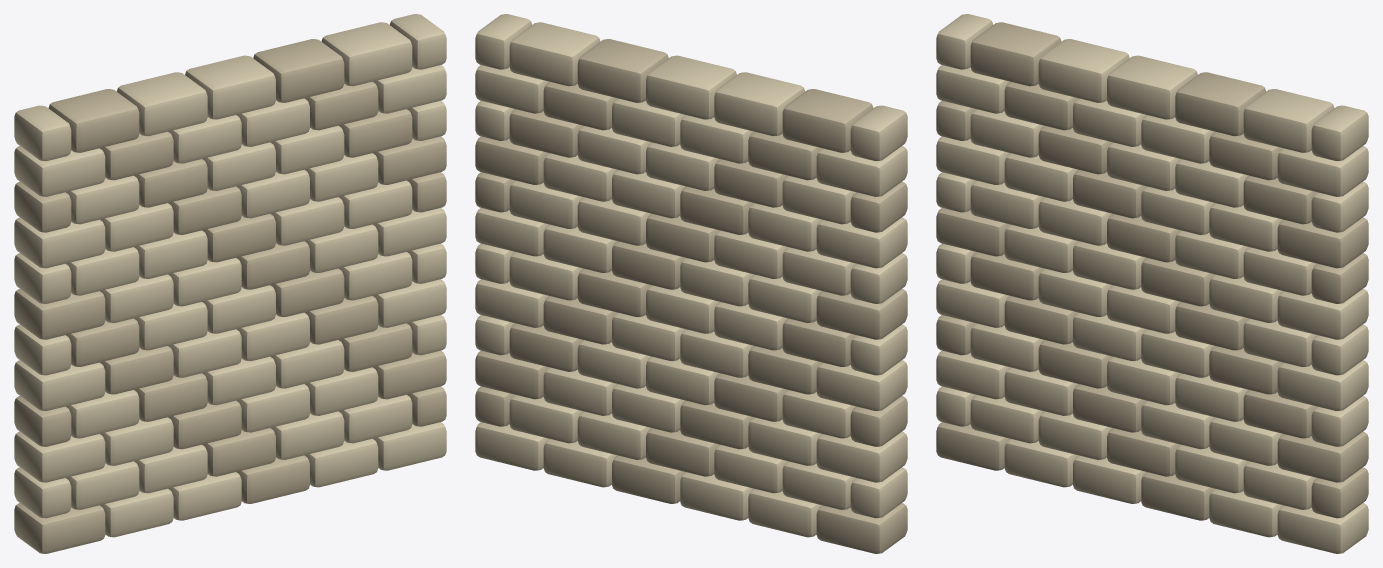
File: build_wall.glb
3 renders of one model, left to right at view 1: azimuth 30°, elevation 25°; view 2: azimuth 150°, elevation 25°; view 3: azimuth 330°, elevation 25°, orthographic.
Parts seen in each view (by area): view 1: Wall; view 2: Wall; view 3: Wall.
Boxes of the visible parts, x1,y1,x2,y2 form: Wall: (14,14,446,553); Wall: (475,14,907,553); Wall: (936,14,1368,553).
Size of what is drawn, in the model's own units: 2.99 by 2.99 by 0.38.
